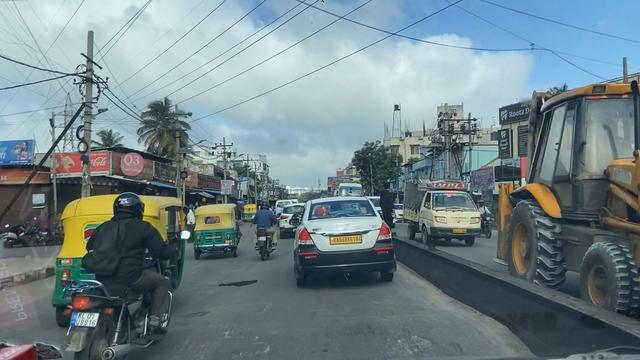LMV: (68, 196, 167, 359), (296, 198, 393, 282), (190, 205, 240, 254)
RoadDamages: (197, 333, 236, 360)
UnsurfacedRoad: (361, 291, 439, 360)
